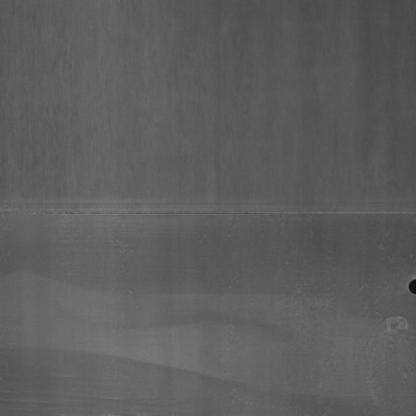punching_hole: (403, 272, 416, 300)
welding_line: (1, 195, 416, 236)
